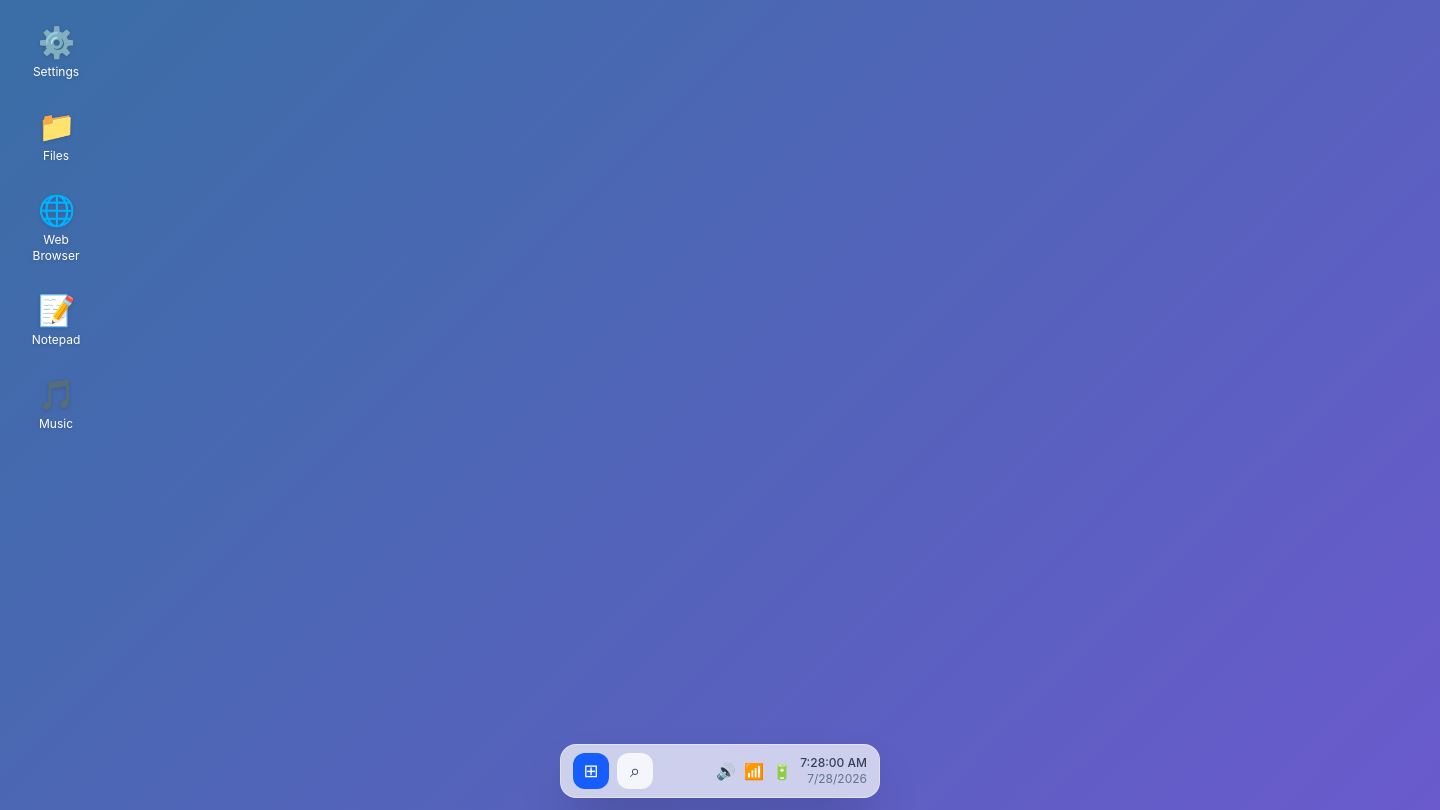
Test: Desktop › closes Spotlight, the Start menu and the context menu with Escape
The image size is (1440, 810).
Click the button named "Search" at (635, 771), box left=617, top=753, right=653, bottom=789
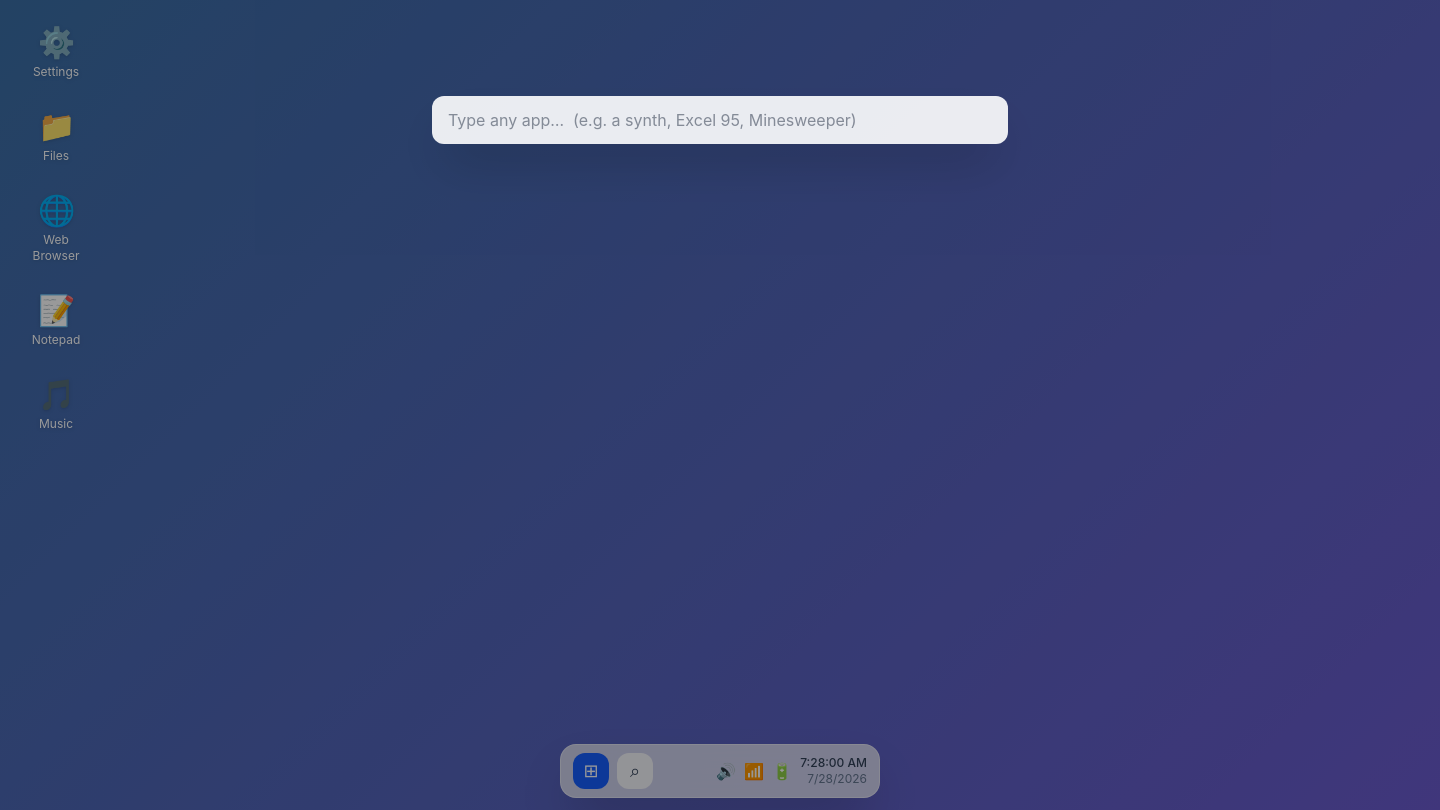
Result: the field with placeholder "Type any app… (e.g. a synth, Excel 95, Minesweeper)" is shown at left=432, top=96, right=1008, bottom=144
Press Escape
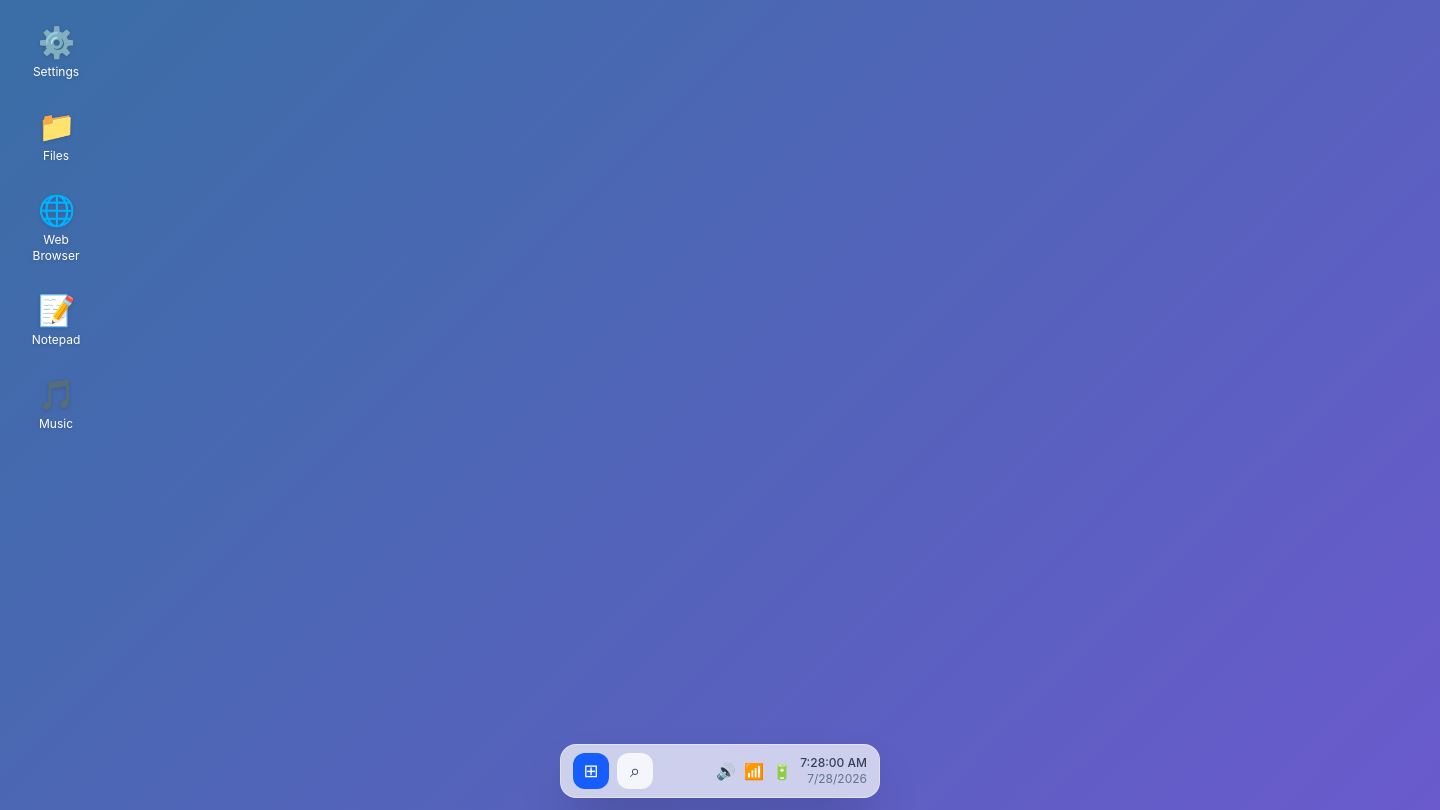
Expected: the field with placeholder "type any app" is not shown
Click the button named "Start" at (591, 771), box left=573, top=753, right=609, bottom=789
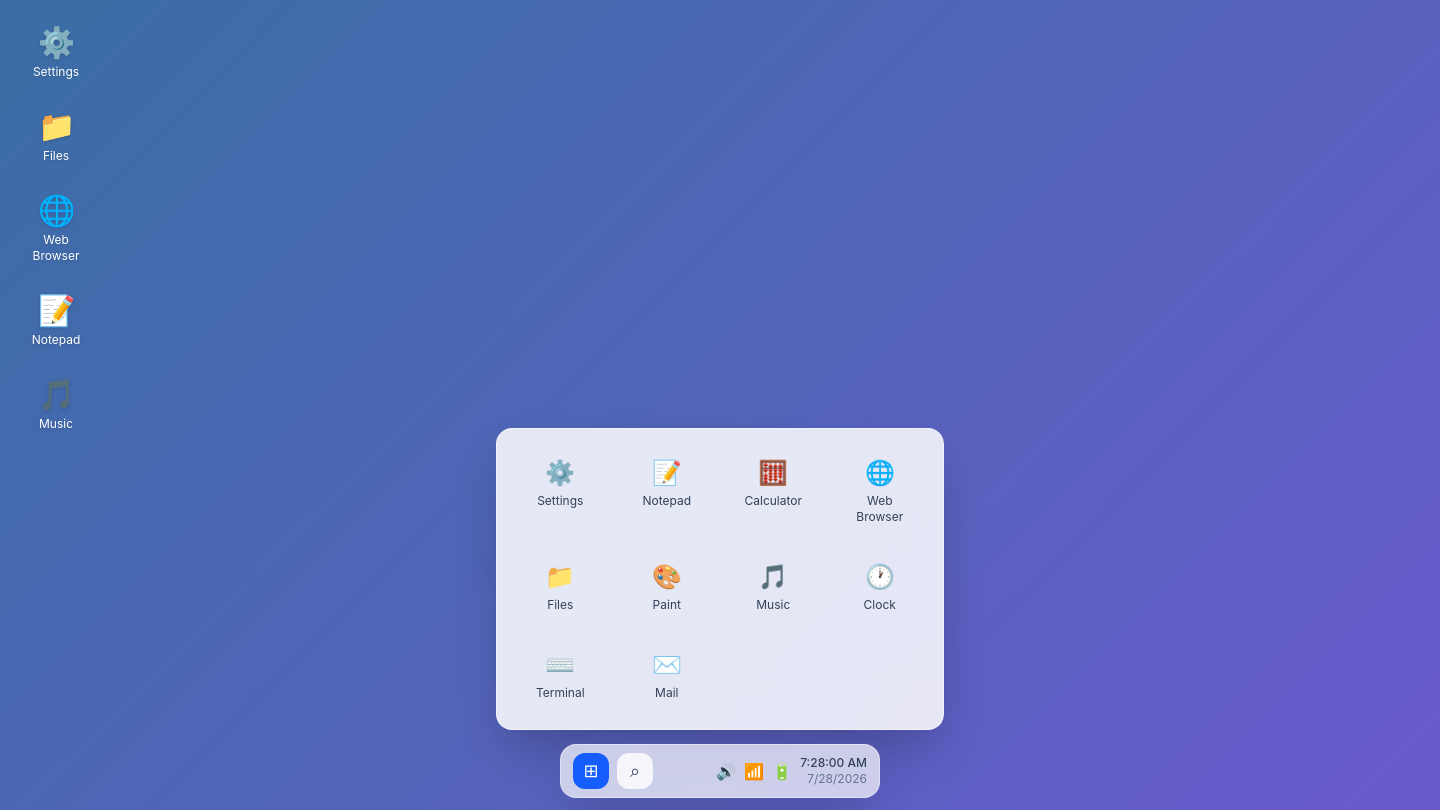
Result: the text "Paint" is shown at left=653, top=597, right=681, bottom=613
Press Escape
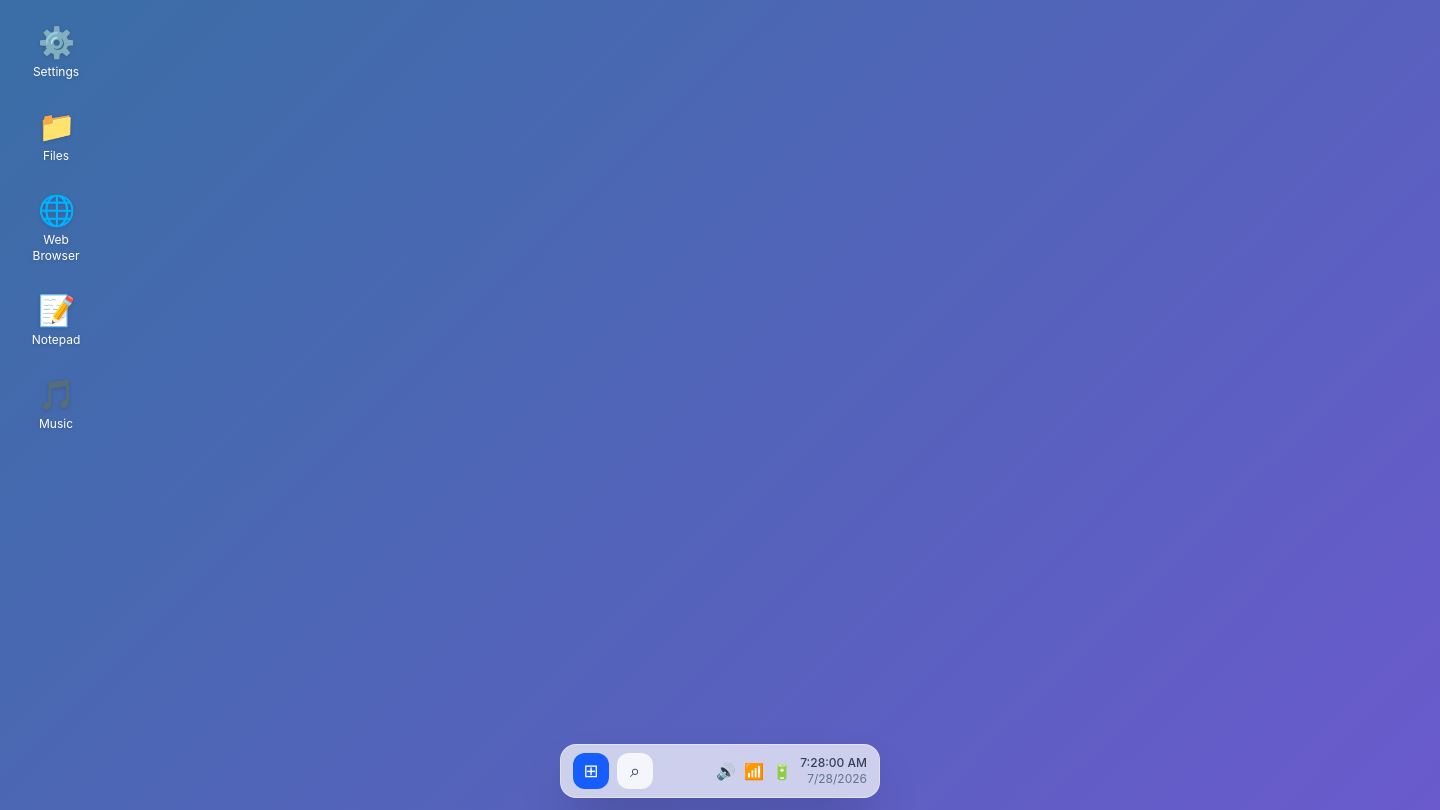
Result: the button "Paint" is gone
Right-click the element that starts with "Settings" at (720, 405), box left=0, top=0, right=1439, bottom=809
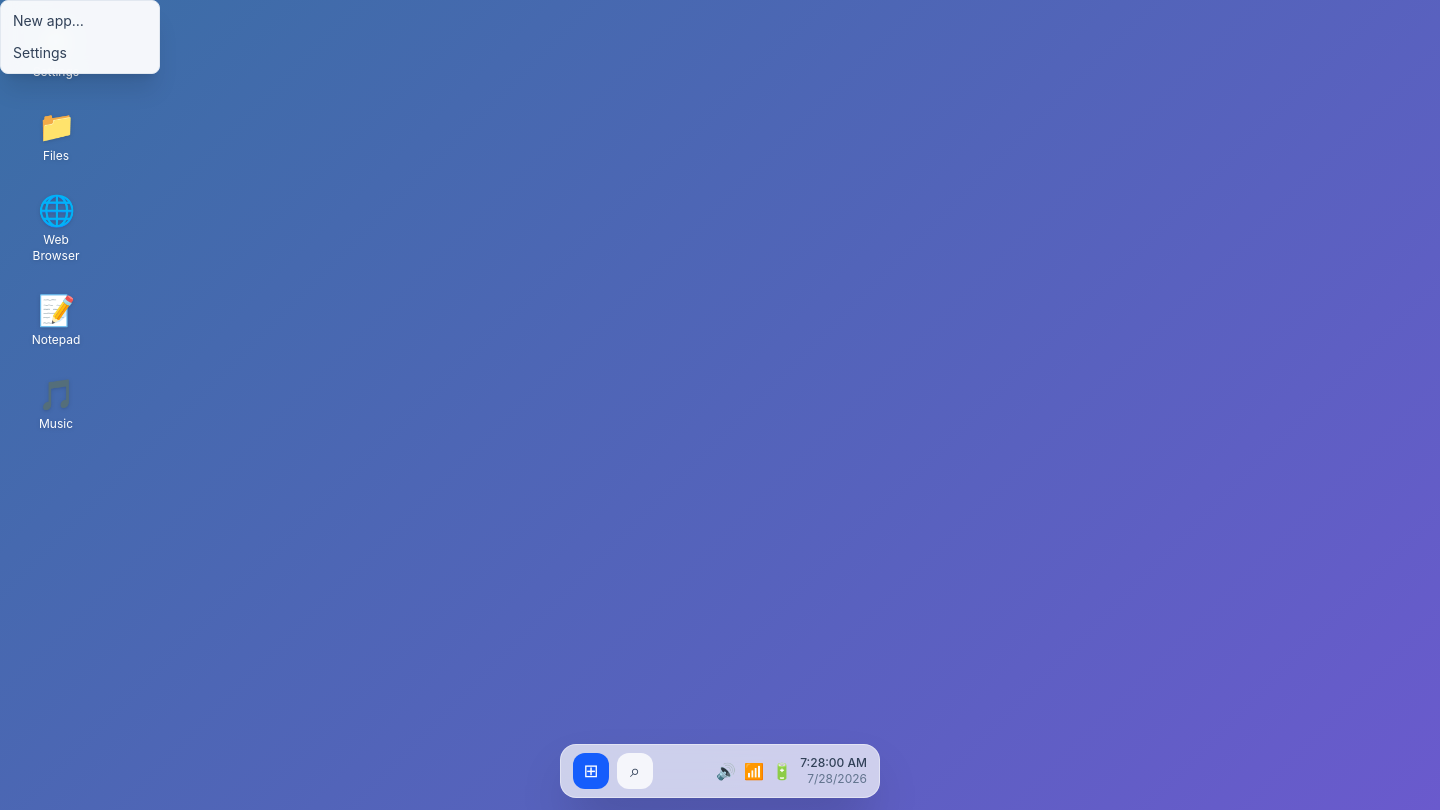
Result: the button "New app…" is shown at left=1, top=5, right=159, bottom=37
Press Escape
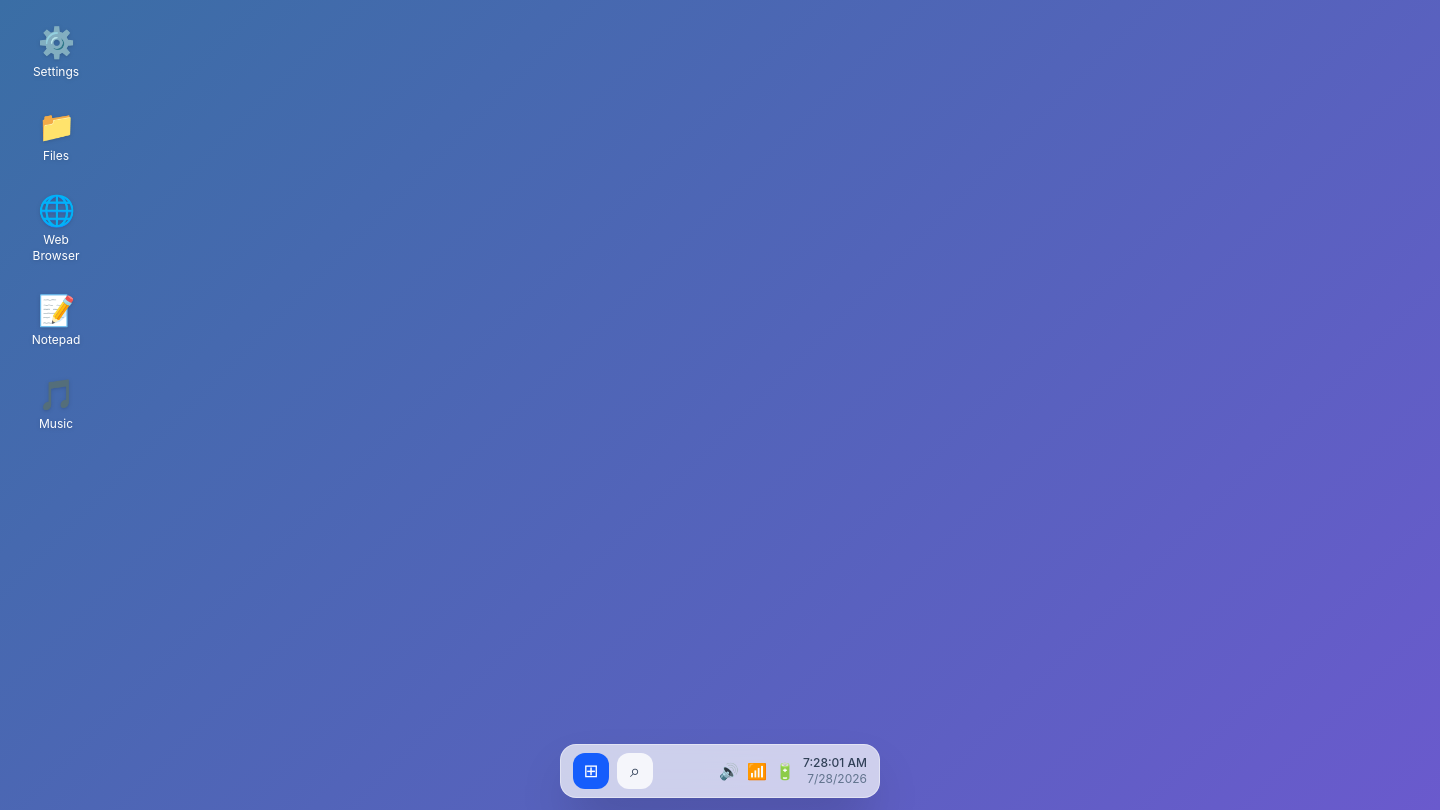
Result: the button "New app…" is gone
